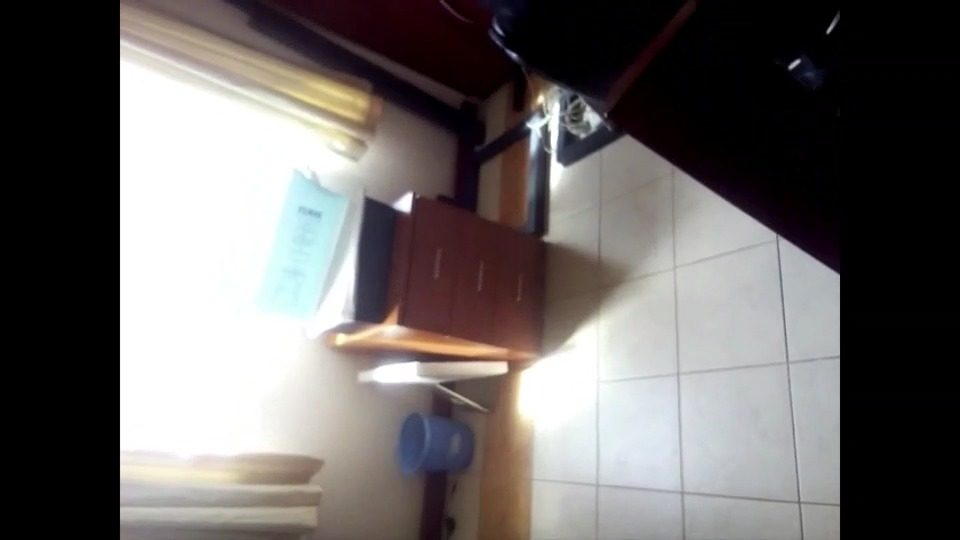wheat_flour_blue_label: (241, 169, 351, 320)
